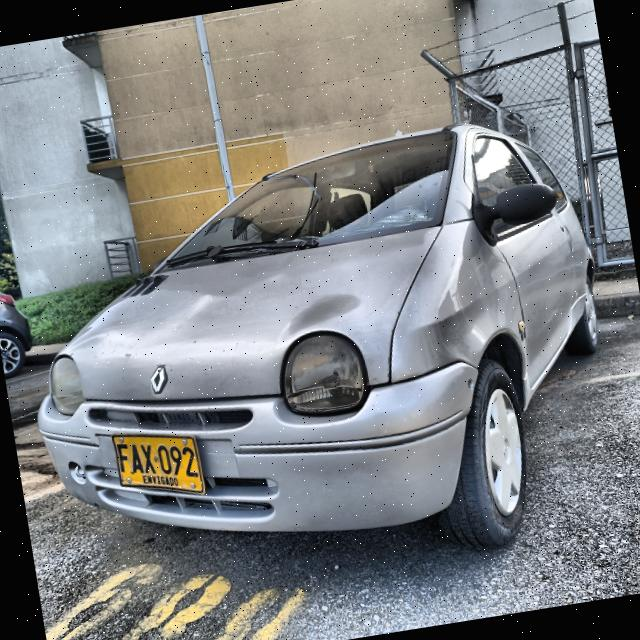0: (156, 444, 173, 475)
2: (180, 446, 199, 478)
9: (168, 445, 183, 476)
A: (130, 443, 145, 473)
F: (116, 444, 128, 472)
X: (139, 443, 158, 474)
